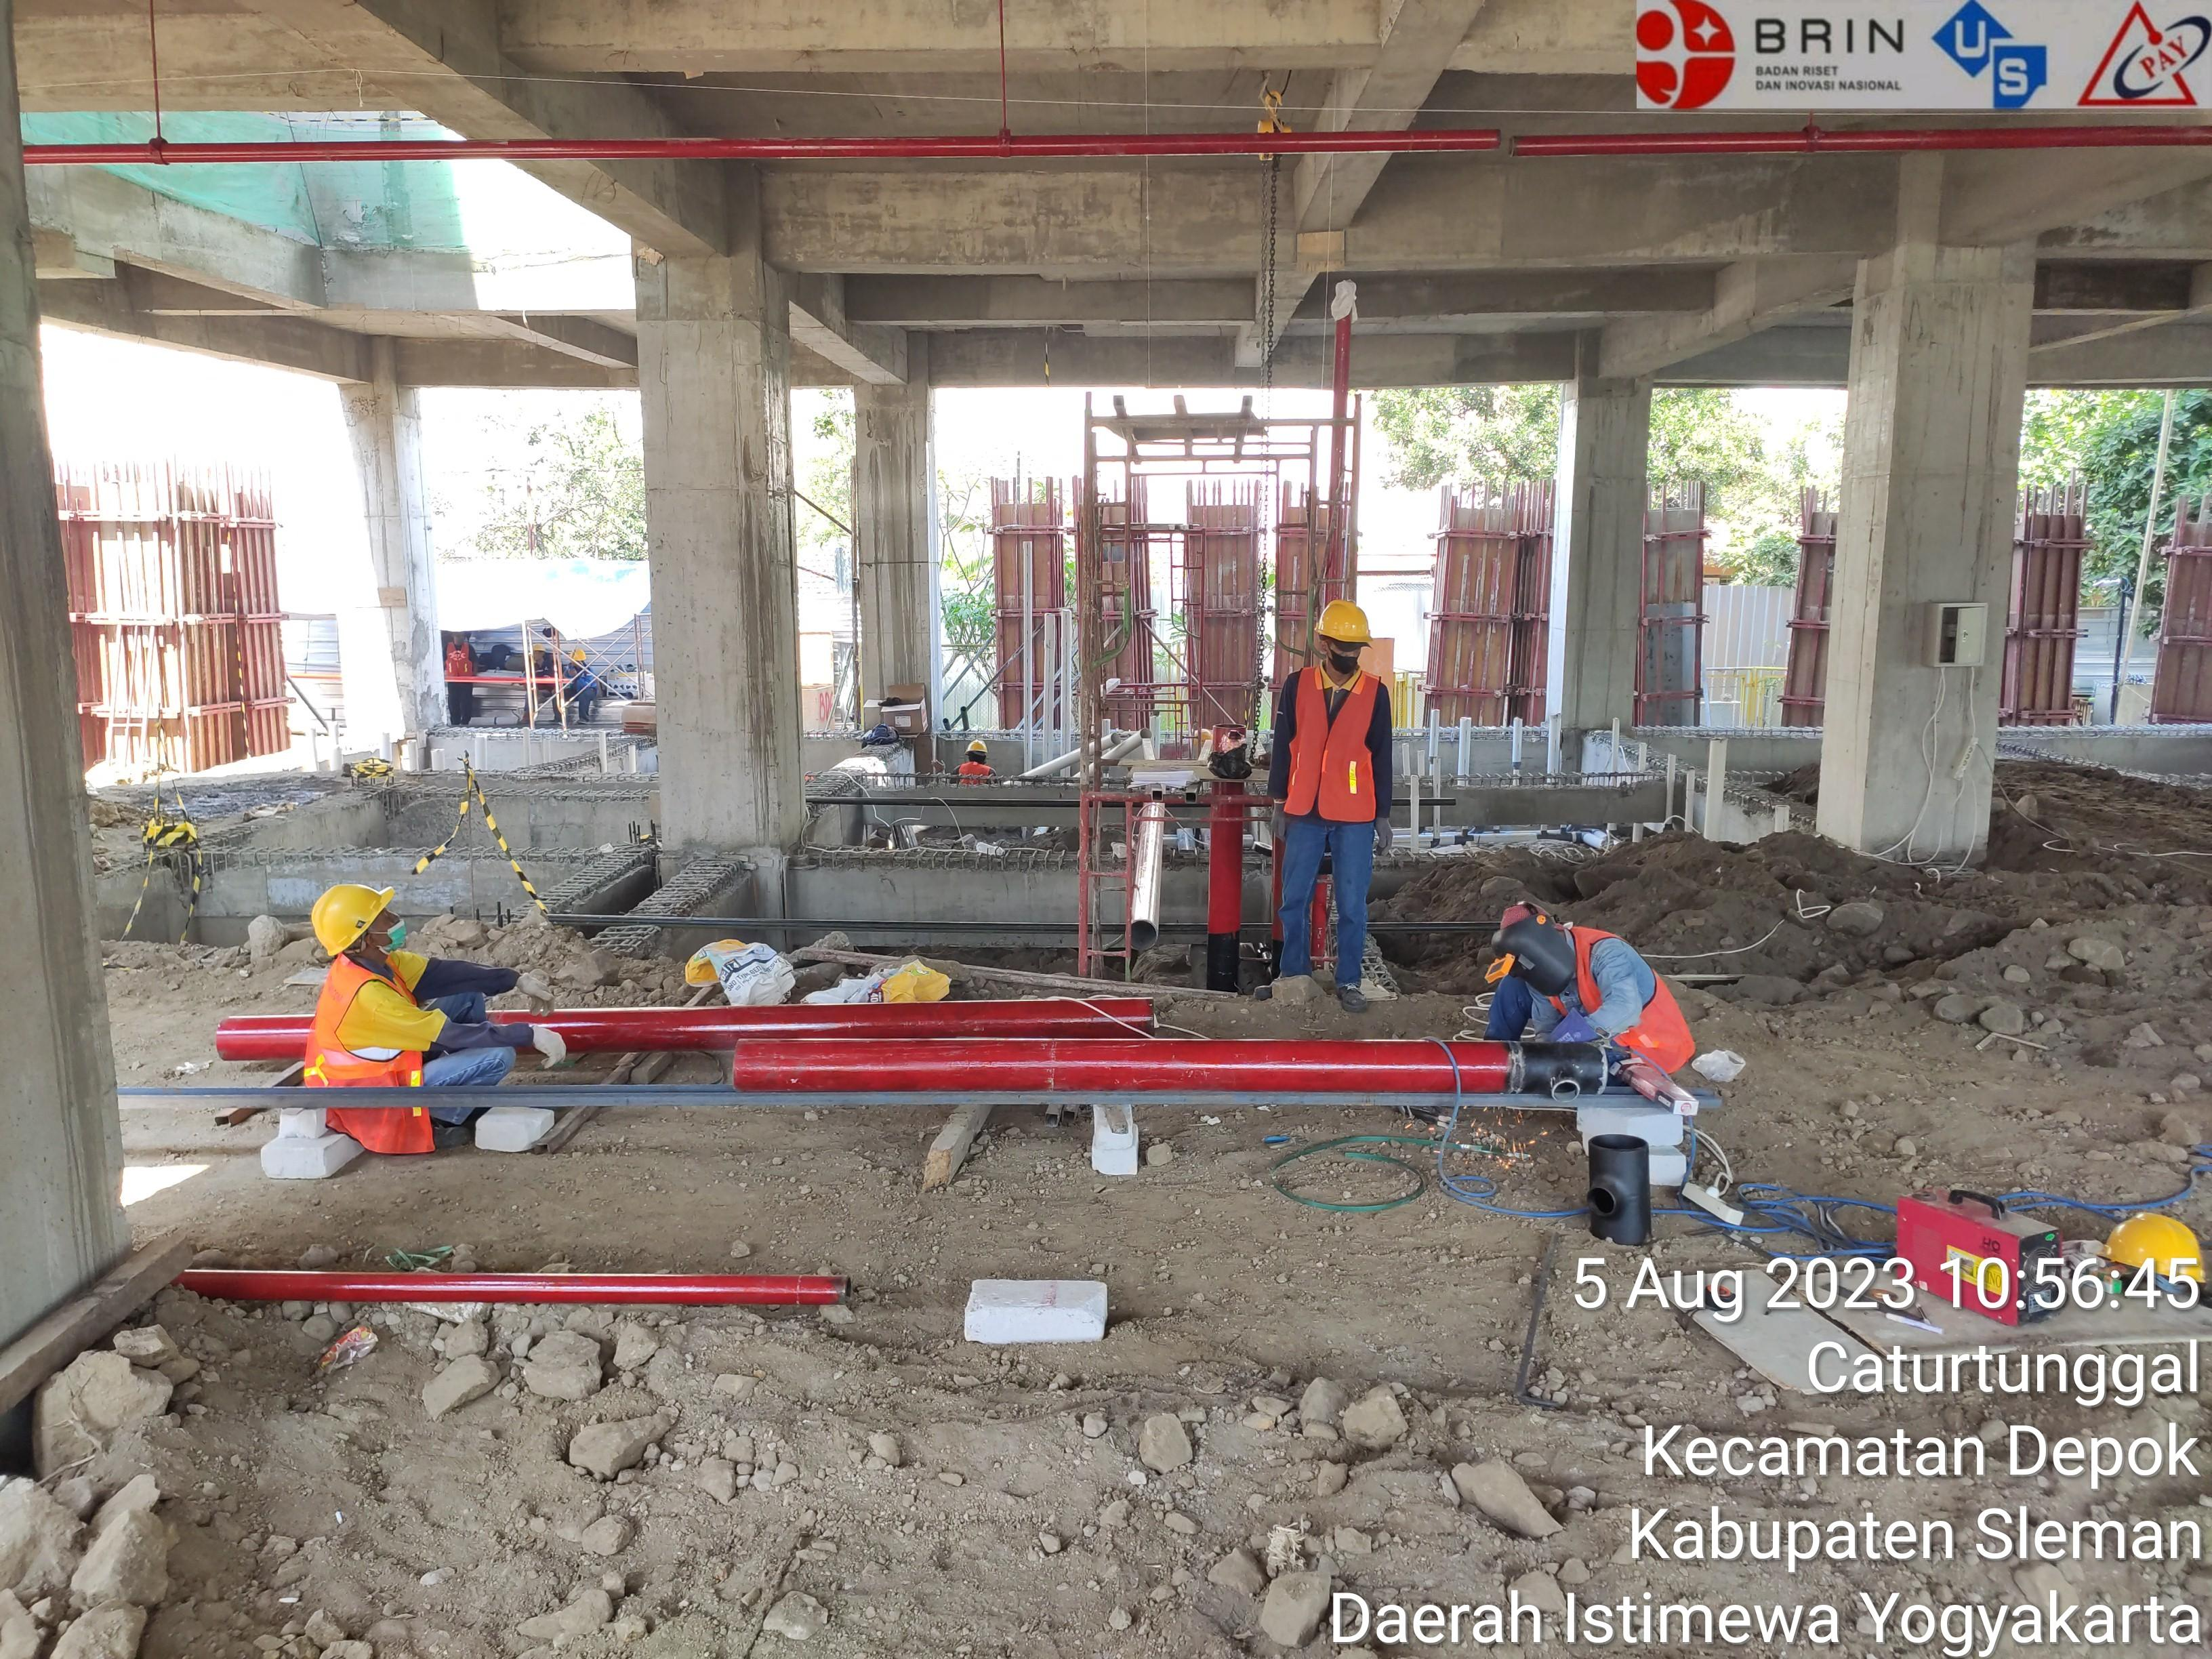hat: (293, 861, 428, 979), (1292, 573, 1421, 678), (961, 714, 1003, 762), (564, 647, 597, 674), (528, 641, 552, 660)
no hat: (448, 627, 477, 647)
vest: (296, 953, 469, 1175), (1568, 920, 1702, 1101), (1277, 660, 1388, 845), (941, 751, 1014, 793), (442, 643, 479, 688)
